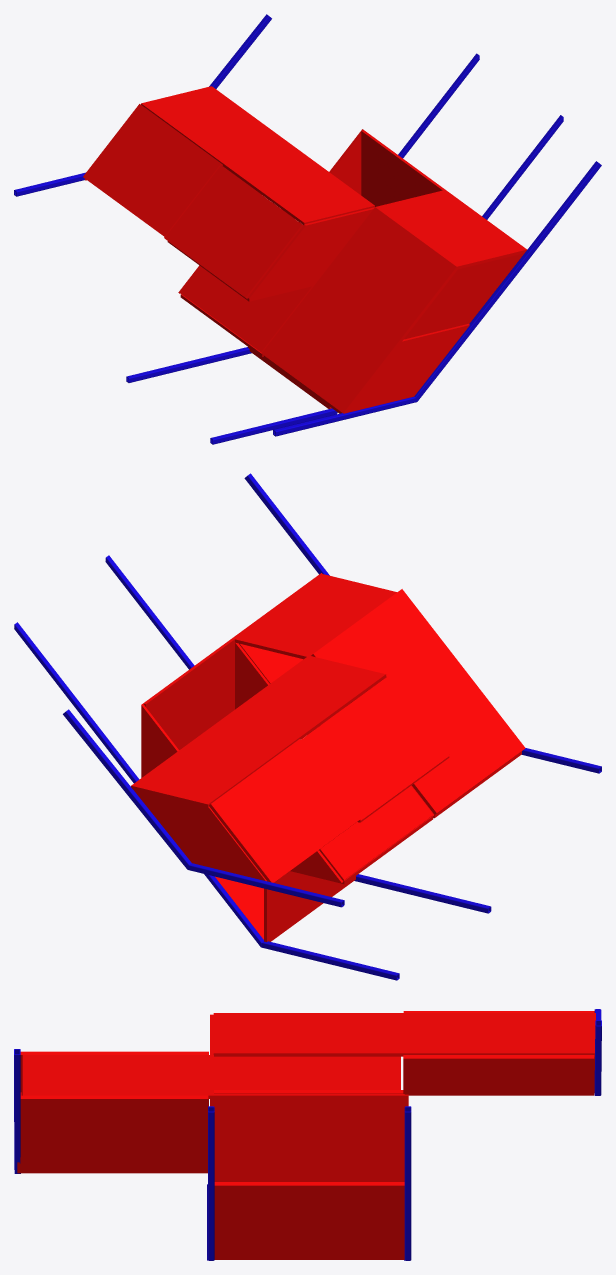
The picture shows the model from 3 angles, top to bottom: view 1: azimuth 30°, elevation 25°; view 2: azimuth 150°, elevation 25°; view 3: azimuth 270°, elevation 25°; orthographic projection. The views are drawn at different scales.
Visible parts, largest first — view 1: Obj_000033; view 2: Obj_000033; view 3: Obj_000033.
Part boxes in pixels (x1,y1,x2,y2): Obj_000033: (14,14,601,444); Obj_000033: (14,473,601,980); Obj_000033: (14,1009,601,1260).
Bounding box in the file's own units: 2.7 × 1.81 × 3.08.
